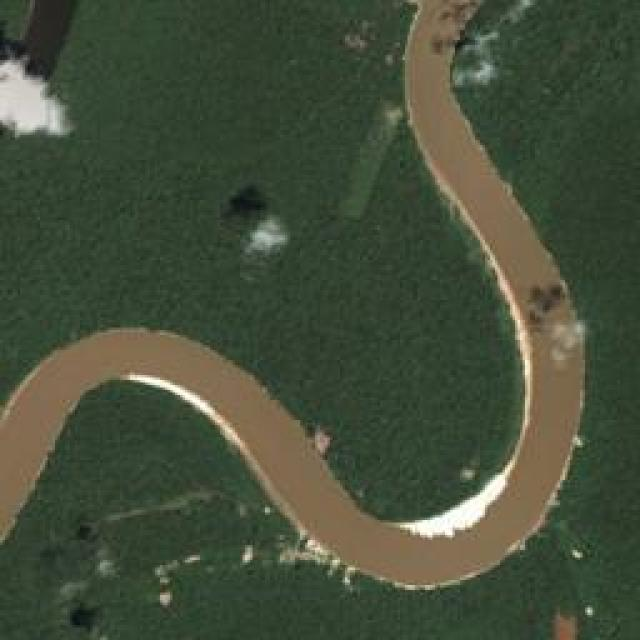Grassland: (0, 0, 638, 638)
River: (0, 0, 586, 592), (480, 203, 517, 221)
